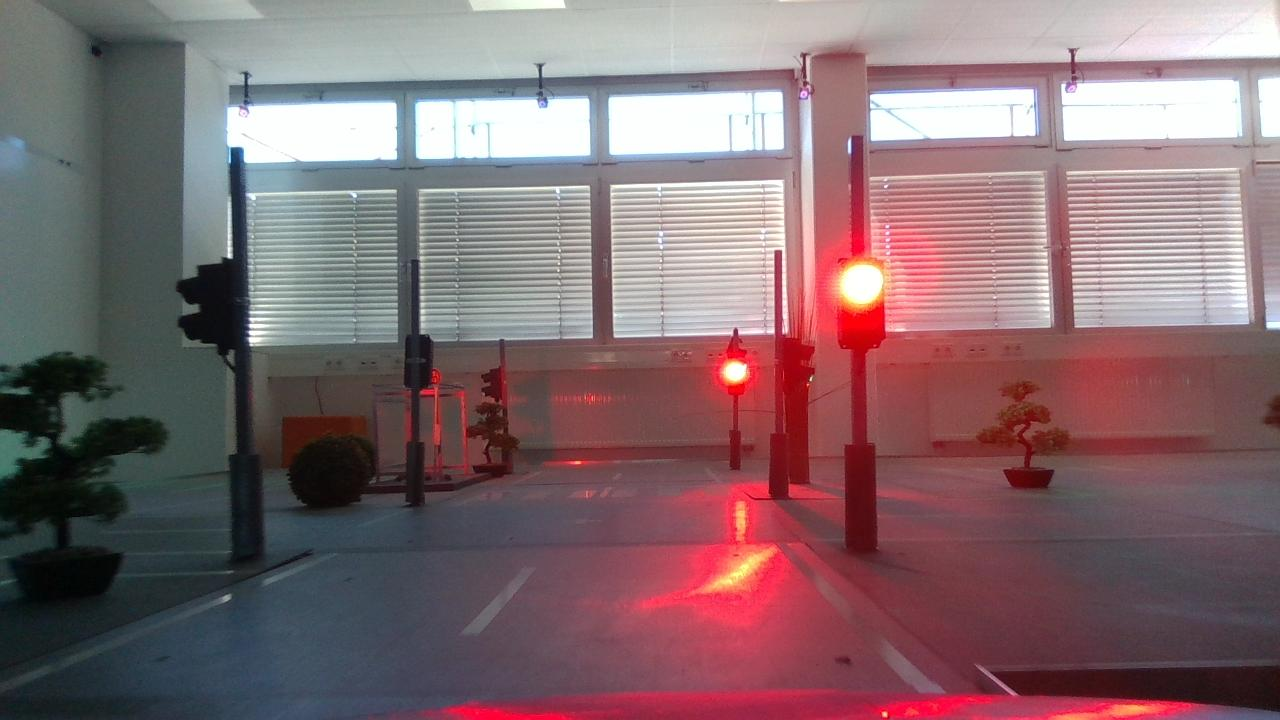traffic_light_red: (822, 243, 899, 368)
